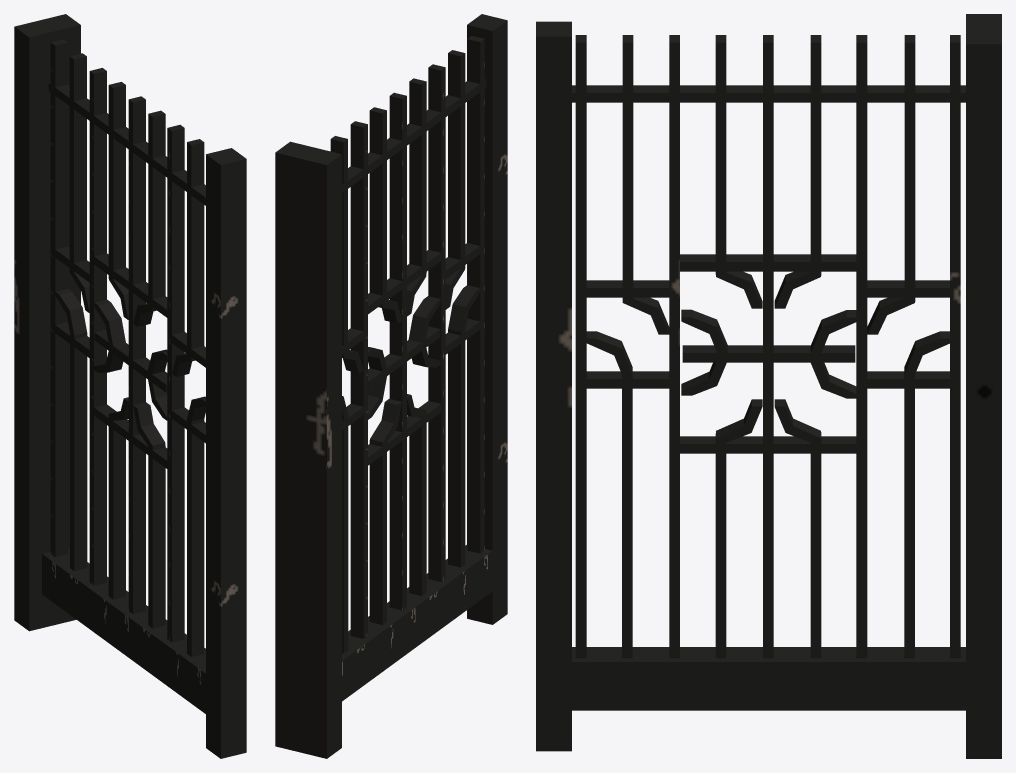
The model's file is gate.obj.
The picture shows the model from 3 angles, left to right: view 1: azimuth 30°, elevation 25°; view 2: azimuth 150°, elevation 25°; view 3: azimuth 270°, elevation 25°; orthographic projection. The views are drawn at different scales.
Parts seen in each view (by area): view 1: Cube.003_Material.003, Cube.003_Material.002, Cube.003_Material.001, Cube.003_Material, Cube.003_Material.004; view 2: Cube.003_Material, Cube.003_Material.002, Cube.003_Material.003, Cube.003_Material.001, Cube.003_Material.004; view 3: Cube.003_Material.003, Cube.003_Material.002, Cube.003_Material, Cube.003_Material.001, Cube.003_Material.004.
Boxes of the visible parts, box(x1,y1,x2,y2) form: Cube.003_Material.003: box(54, 53, 205, 656); Cube.003_Material.002: box(48, 39, 205, 642); Cube.003_Material.001: box(206, 148, 246, 758); Cube.003_Material: box(14, 14, 80, 631); Cube.003_Material.004: box(42, 548, 205, 713); Cube.003_Material: box(275, 141, 341, 758); Cube.003_Material.002: box(342, 36, 486, 638); Cube.003_Material.003: box(330, 50, 483, 653); Cube.003_Material.001: box(467, 14, 507, 624); Cube.003_Material.004: box(342, 545, 492, 701); Cube.003_Material.003: box(577, 35, 953, 658); Cube.003_Material.002: box(572, 35, 965, 658); Cube.003_Material: box(966, 14, 1001, 758); Cube.003_Material.001: box(536, 21, 571, 751); Cube.003_Material.004: box(572, 647, 965, 710).
Bounding box in the file's own units: 1 × 11 × 6.5.
